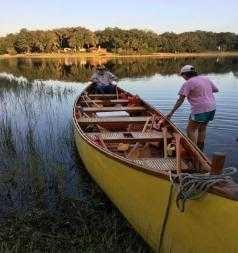kayak: (71, 81, 237, 251)
